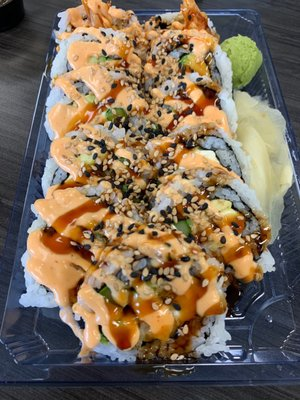sandwich: (23, 1, 296, 361)
